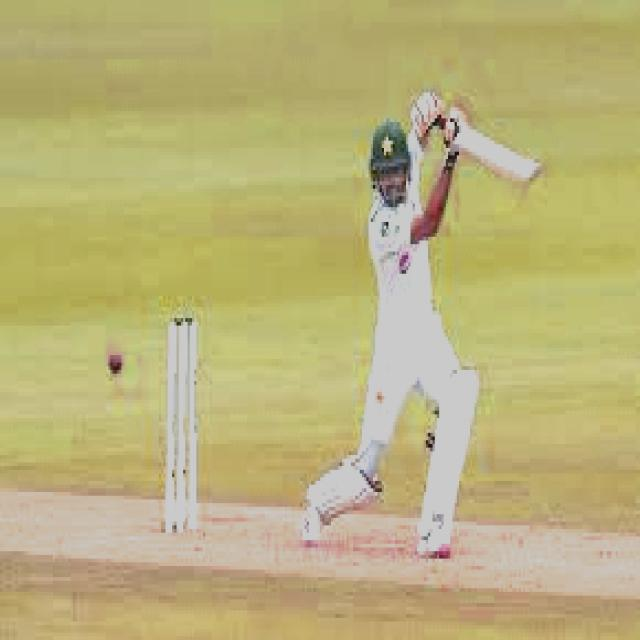toe: (502, 151, 544, 194)
